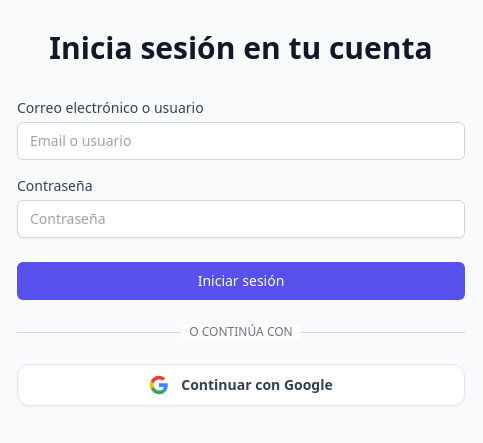
Test case: Login Component › shows validation errors for empty fields
Click the button "Iniciar sesión" at (241, 281), box x1=17 y1=262 x2=465 y2=300
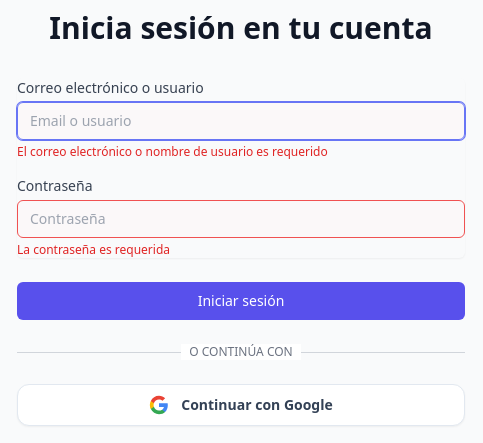
Check: the text "El correo electrónico o nombre de usuario es requerido" is shown, box x1=17 y1=143 x2=328 y2=160
